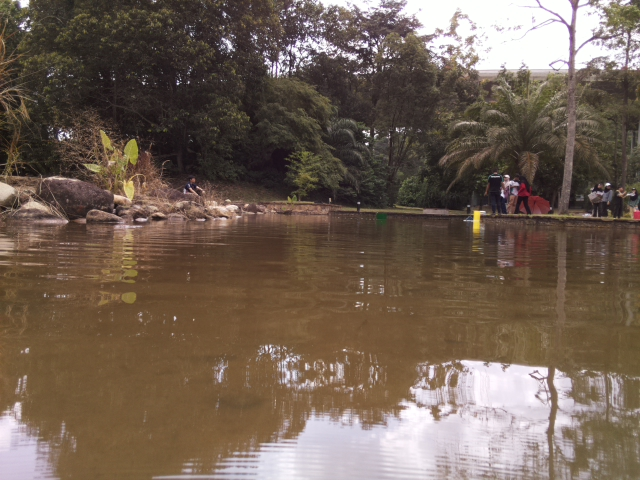obstacle: (375, 211, 387, 220)
